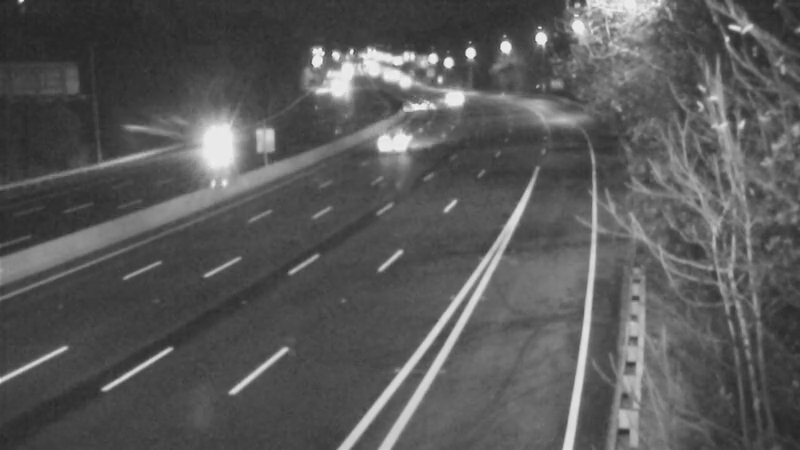vehicle: (424, 70, 474, 120), (392, 79, 442, 129), (374, 114, 424, 164), (185, 122, 235, 172)
